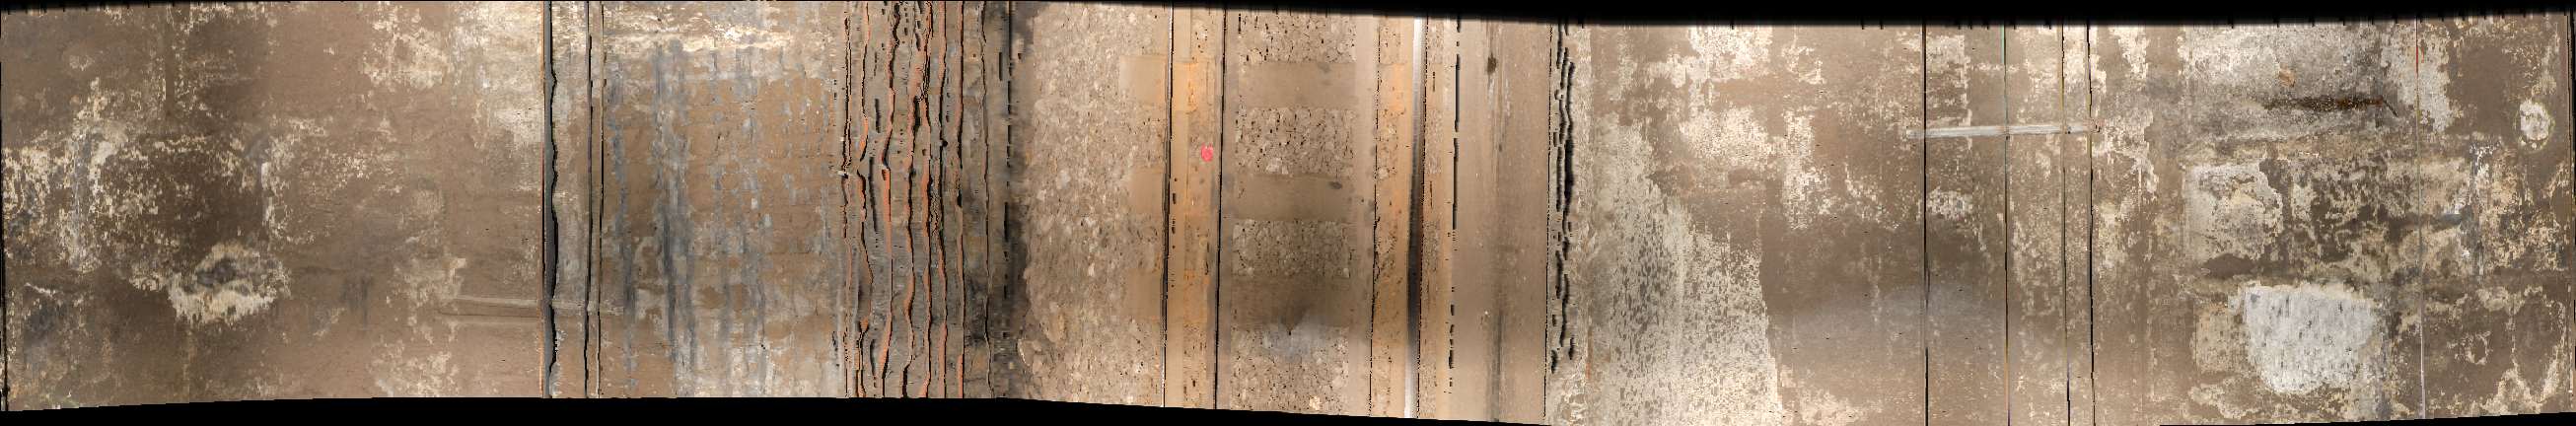pipes: (830, 2, 1030, 410), (1999, 30, 2113, 426), (537, 2, 613, 426), (1914, 30, 1948, 426)
tracks: (1171, 7, 1454, 426)
